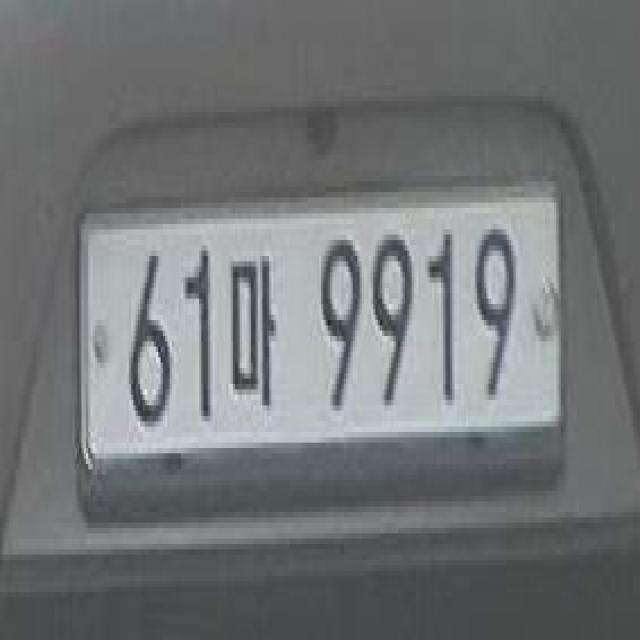1: (422, 219, 464, 409), (180, 244, 219, 426)
6: (122, 248, 172, 422)
9: (368, 221, 418, 415), (315, 225, 363, 420), (472, 214, 518, 410)
license_plate: (77, 186, 566, 499)
ma: (226, 244, 278, 418)
